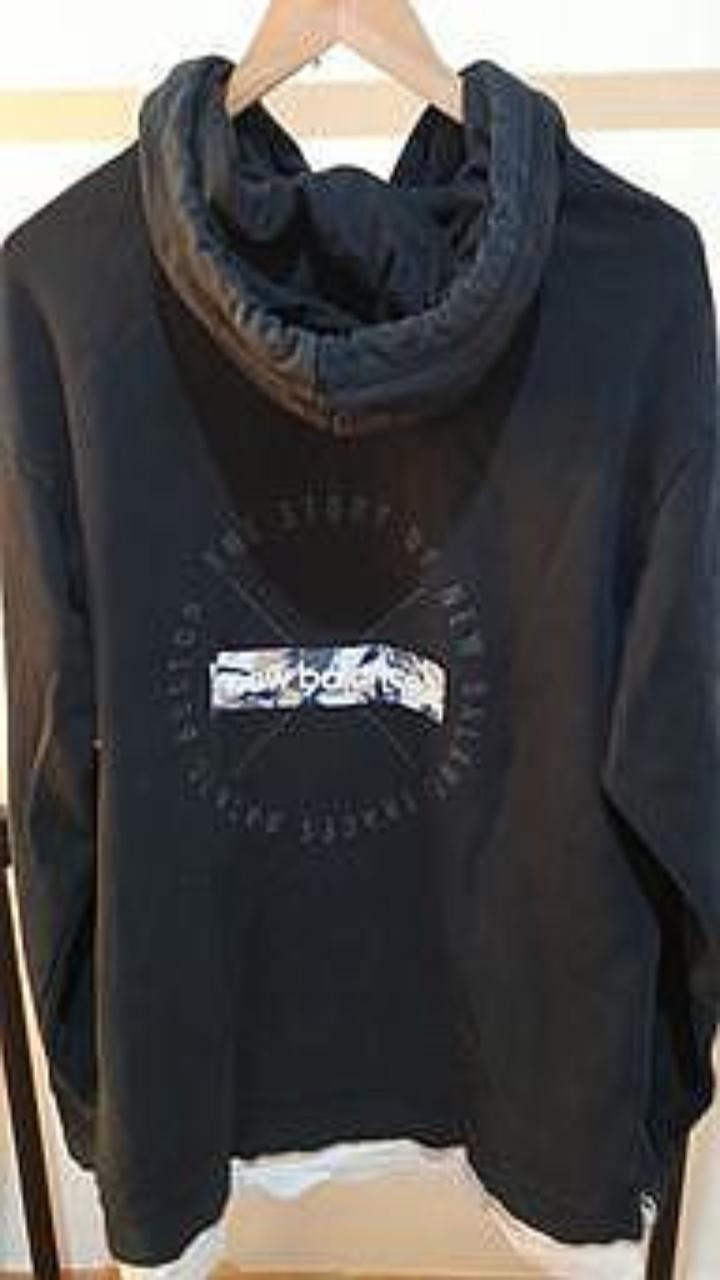Hoodie: (0, 54, 719, 1263)
